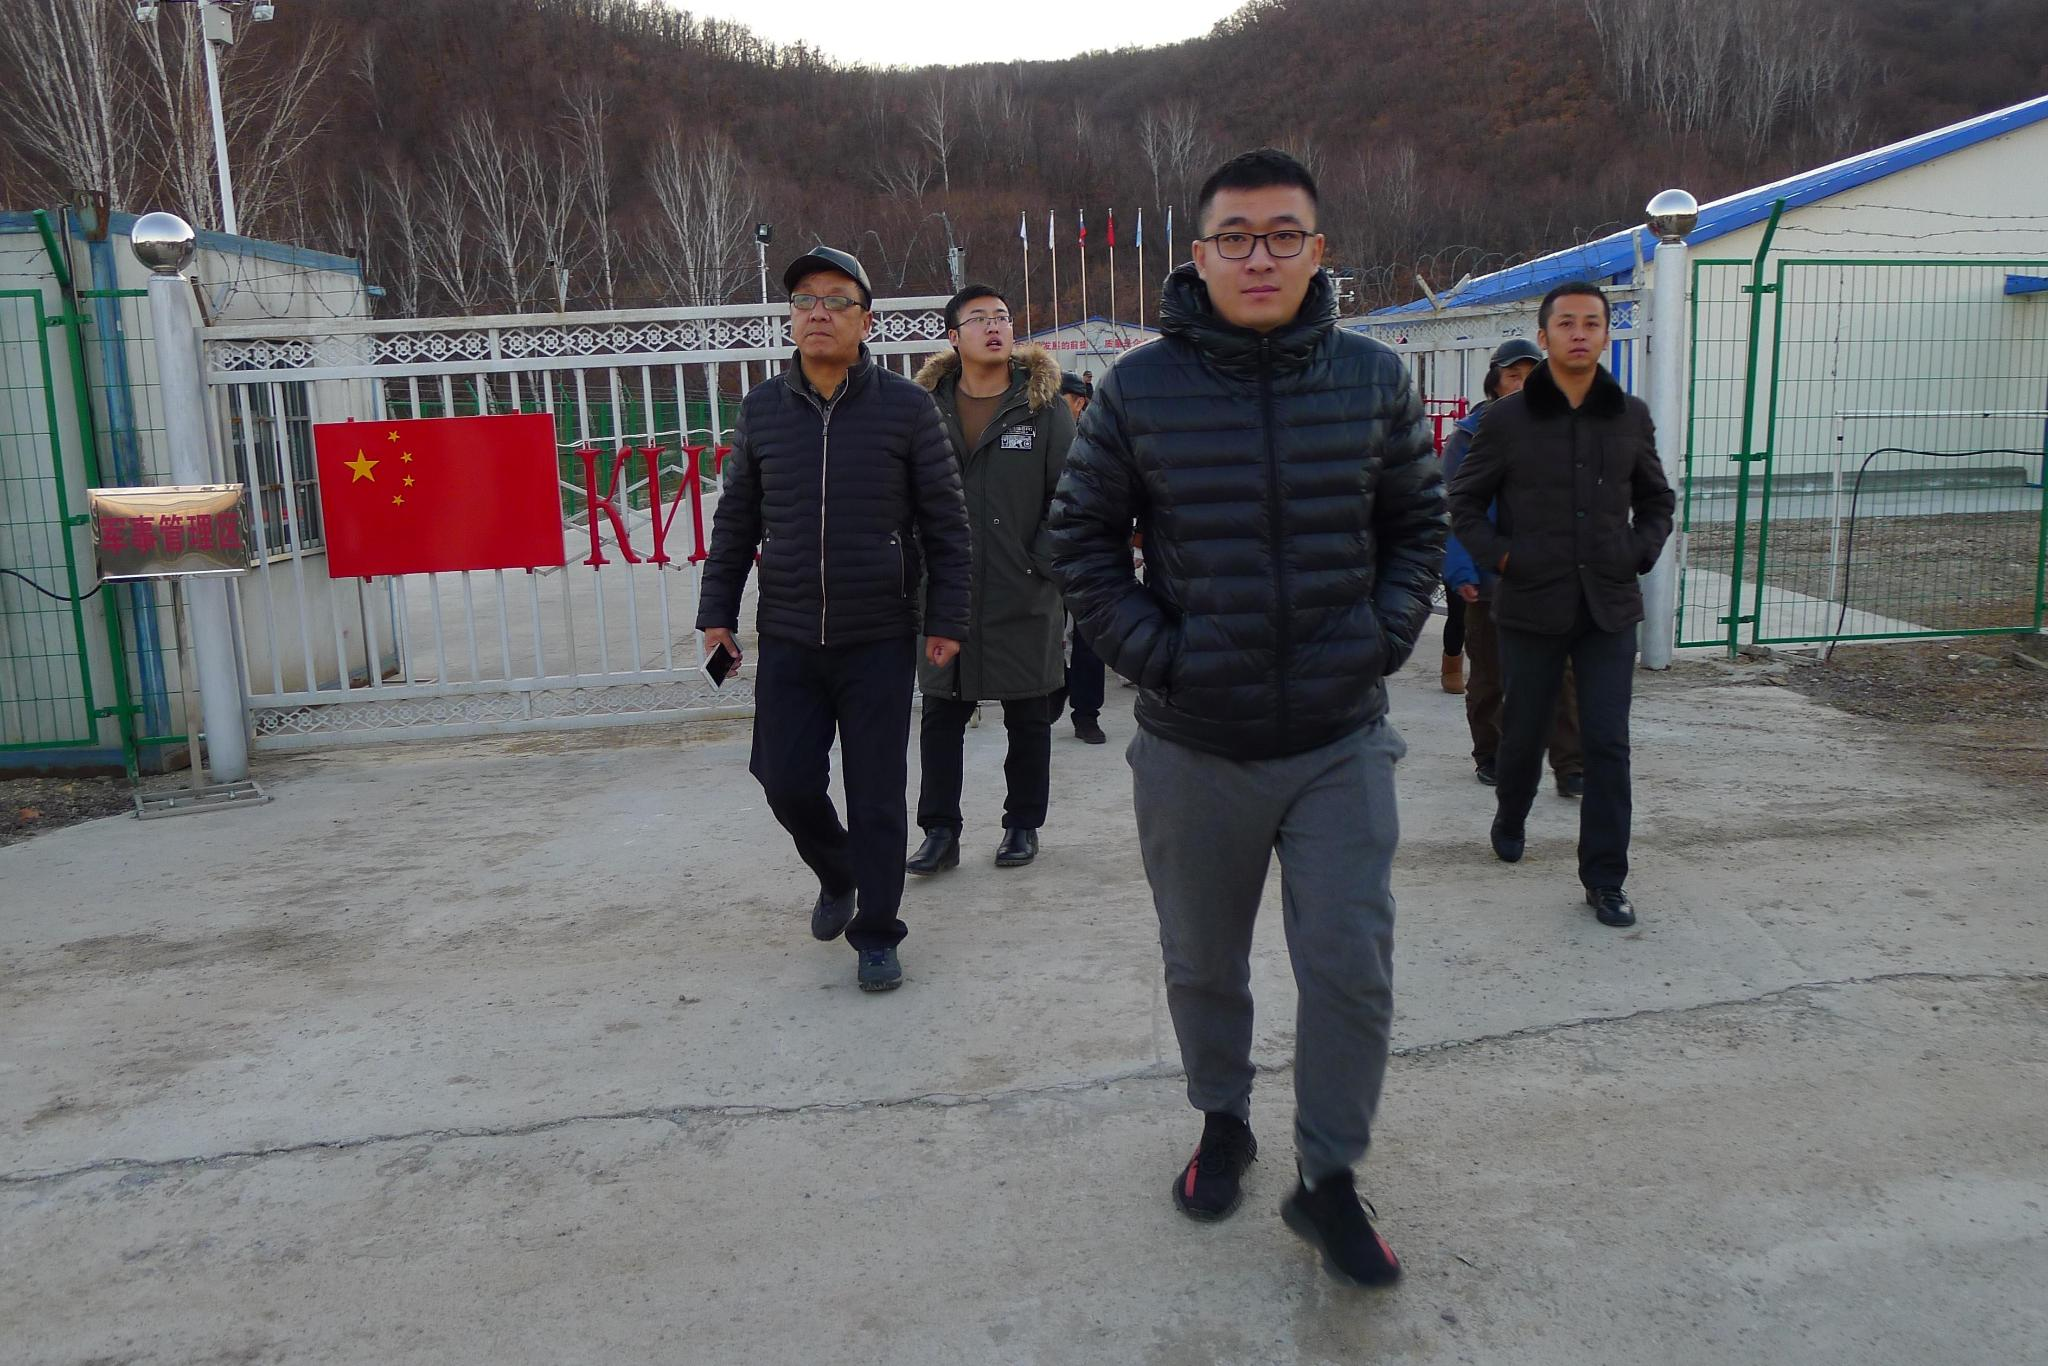not_helmet: (1186, 164, 1328, 326), (780, 242, 876, 368), (1530, 276, 1620, 374), (942, 280, 1016, 372)
not_reflective: (1044, 315, 1450, 761), (695, 358, 977, 662), (904, 362, 1086, 702), (1452, 376, 1680, 634)
